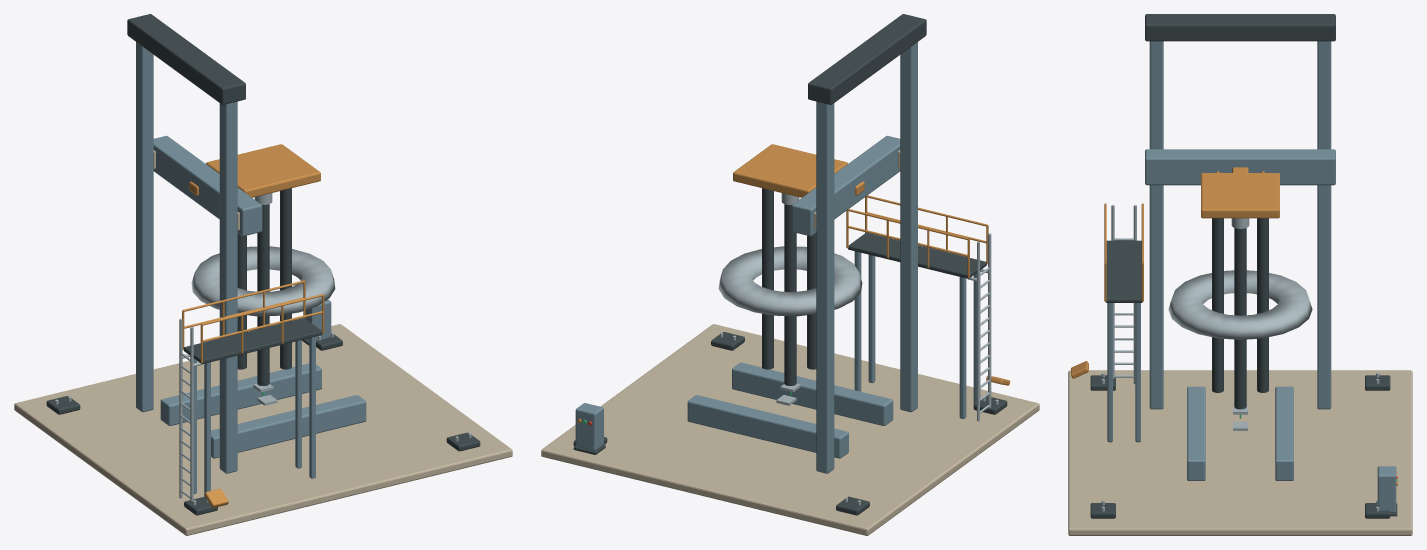
3 views of the same model, side by side, from view 1: azimuth 30°, elevation 25°; view 2: azimuth 150°, elevation 25°; view 3: azimuth 270°, elevation 25° (orthographic).
Visible parts, largest first — view 1: foundation, electrode_mast_-1.8, electrode_mast_1.8, refining_roof, mast_bridge, electrode_slide_carriage, ladle_cradle_0.95, ladle_cradle_-0.95, electrode_carrier, lf_service_deck, graphite_electrode_1, graphite_electrode_0 (+7 smaller); view 2: foundation, electrode_mast_-1.8, electrode_mast_1.8, refining_roof, ladle_cradle_-0.95, mast_bridge, ladle_cradle_0.95, electrode_slide_carriage, electrode_carrier, lf_service_deck, graphite_electrode_2, graphite_electrode_0 (+7 smaller); view 3: foundation, refining_roof, electrode_slide_carriage, mast_bridge, electrode_mast_-1.8, electrode_mast_1.8, electrode_carrier, lf_service_deck, graphite_electrode_0, ladle_cradle_-0.95, ladle_cradle_0.95, graphite_electrode_1 (+4 smaller).
Part boxes in pixels (x1,y1,x2,y2): foundation: (14, 324, 512, 535); electrode_mast_-1.8: (136, 42, 153, 412); electrode_mast_1.8: (219, 101, 237, 473); refining_roof: (191, 246, 335, 316); mast_bridge: (127, 14, 245, 104); electrode_slide_carriage: (153, 135, 262, 236); ladle_cradle_0.95: (211, 395, 366, 458); ladle_cradle_-0.95: (160, 363, 321, 425); electrode_carrier: (206, 144, 320, 197); lf_service_deck: (183, 318, 322, 363); graphite_electrode_1: (257, 204, 269, 385); graphite_electrode_0: (280, 188, 291, 369); foundation: (541, 324, 1039, 535); electrode_mast_-1.8: (816, 101, 834, 473); electrode_mast_1.8: (900, 42, 917, 412); refining_roof: (718, 246, 862, 316); ladle_cradle_-0.95: (687, 395, 848, 458); mast_bridge: (808, 14, 926, 104); ladle_cradle_0.95: (732, 362, 893, 425); electrode_slide_carriage: (791, 135, 900, 236); electrode_carrier: (733, 144, 847, 197); lf_service_deck: (848, 232, 986, 278); graphite_electrode_2: (784, 204, 796, 385); graphite_electrode_0: (762, 188, 773, 369); foundation: (1068, 370, 1412, 535); refining_roof: (1168, 270, 1312, 339); electrode_slide_carriage: (1145, 149, 1335, 185); mast_bridge: (1145, 14, 1335, 41); electrode_mast_-1.8: (1317, 41, 1331, 409); electrode_mast_1.8: (1149, 41, 1163, 409); electrode_carrier: (1201, 173, 1279, 218); lf_service_deck: (1106, 240, 1142, 302); graphite_electrode_0: (1234, 228, 1246, 409); ladle_cradle_-0.95: (1275, 386, 1293, 480); ladle_cradle_0.95: (1187, 386, 1205, 480); graphite_electrode_1: (1212, 218, 1223, 392).
Size of the model in its own units: 8.1 by 9.53 by 7.4.
